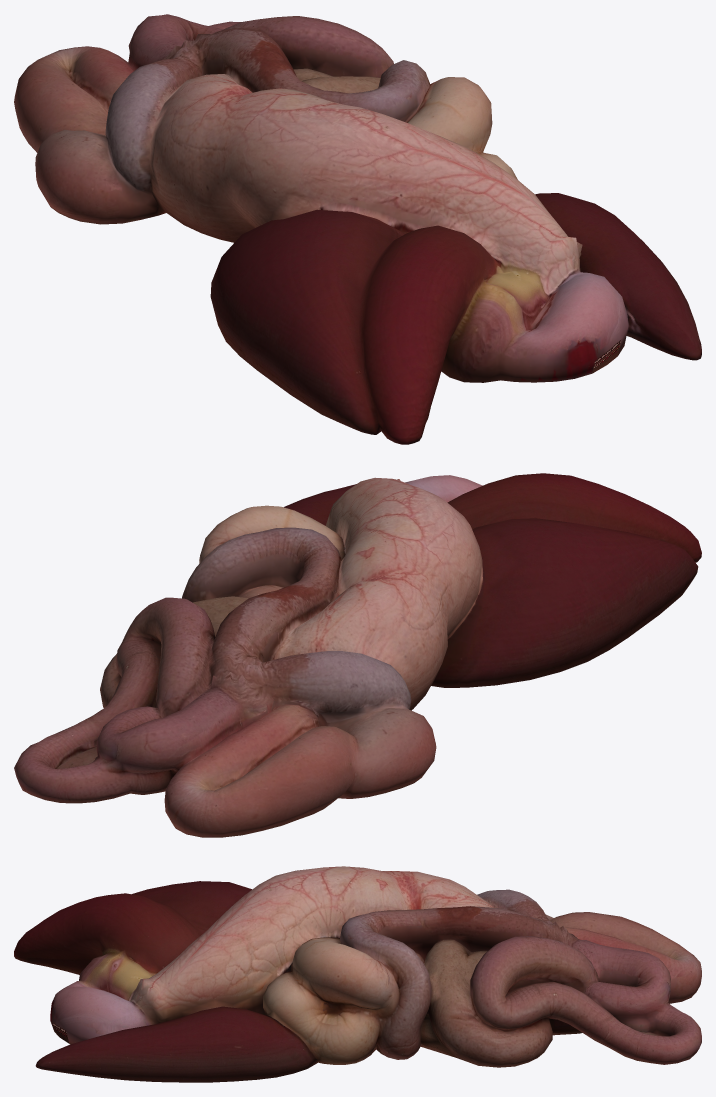
File: guts.glb
3 views of the same model, one above another, from view 1: azimuth 30°, elevation 25°; view 2: azimuth 150°, elevation 25°; view 3: azimuth 270°, elevation 25° (orthographic). The views are drawn at different scales.
Parts seen in each view (by area): view 1: tripo_node_7c5b6544-96db-430b-bb19-6666145ac69a; view 2: tripo_node_7c5b6544-96db-430b-bb19-6666145ac69a; view 3: tripo_node_7c5b6544-96db-430b-bb19-6666145ac69a.
Boxes of the visible parts, <box> form: tripo_node_7c5b6544-96db-430b-bb19-6666145ac69a: <box>14,14,701,444</box>; tripo_node_7c5b6544-96db-430b-bb19-6666145ac69a: <box>14,473,701,837</box>; tripo_node_7c5b6544-96db-430b-bb19-6666145ac69a: <box>14,866,701,1082</box>.
Bounding box in the file's own units: 0.1278 × 0.0512 × 0.2542.
1 material, 1 textured.
